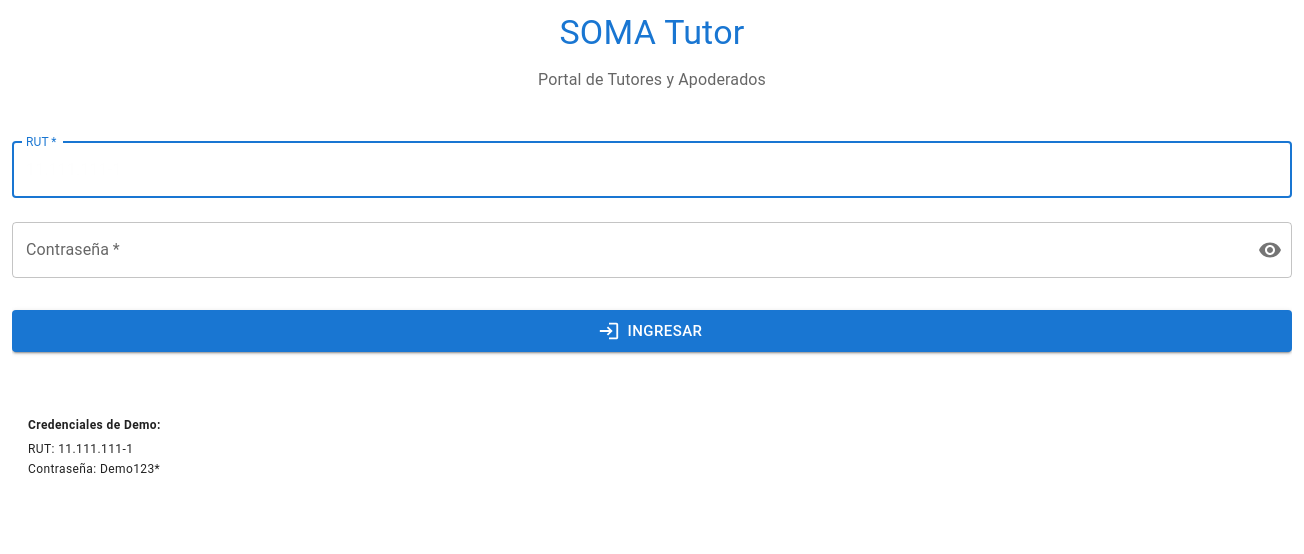
LoginPage › muestra error si el RUT es inválido
In the field labelled "RUT *": [652, 170] box [12, 142, 1292, 198], type "12345678-9"
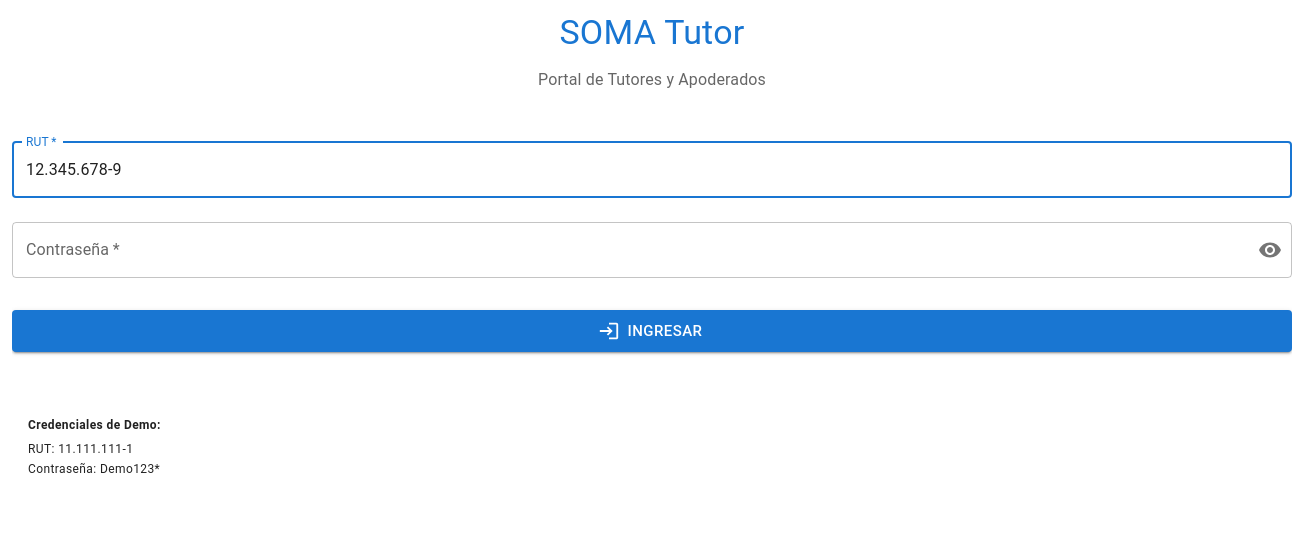
In the password field labelled "Contraseña *": [627, 250] box [12, 222, 1242, 278], type "Demo123*"
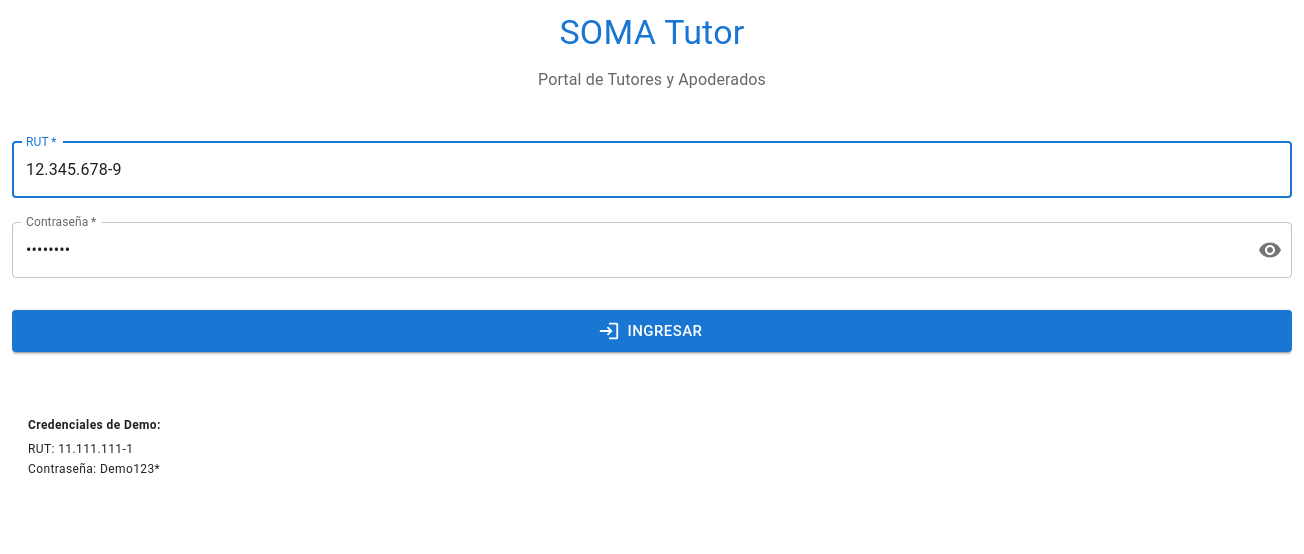
Click the button "Ingresar": [652, 331] box [12, 310, 1292, 352]
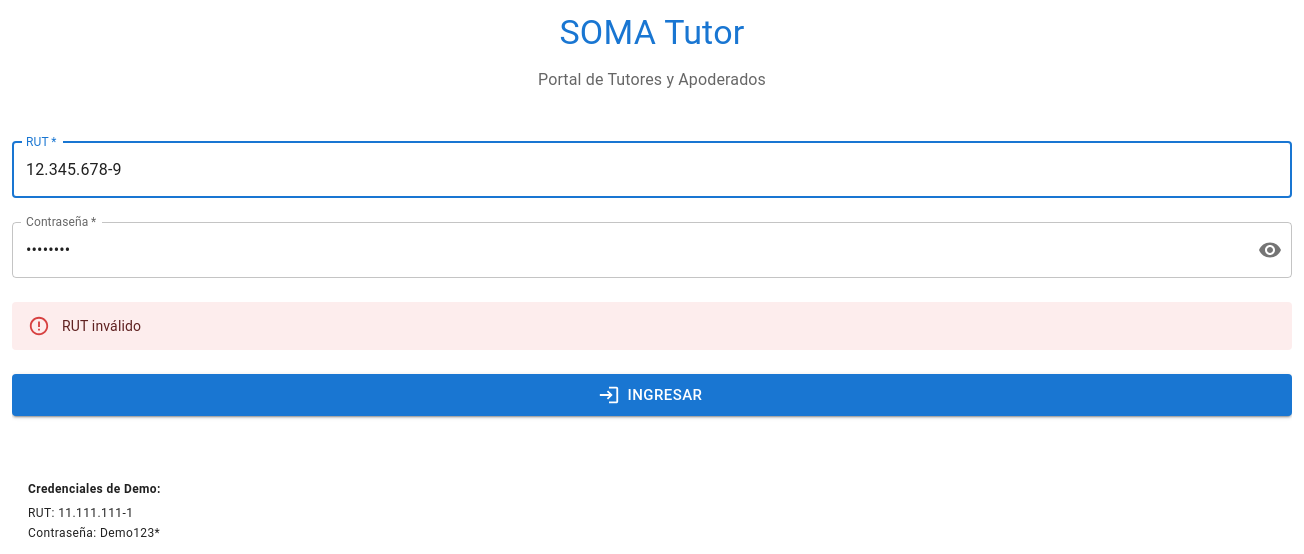
Now the text "RUT inválido" is shown, box [62, 318, 141, 334]
